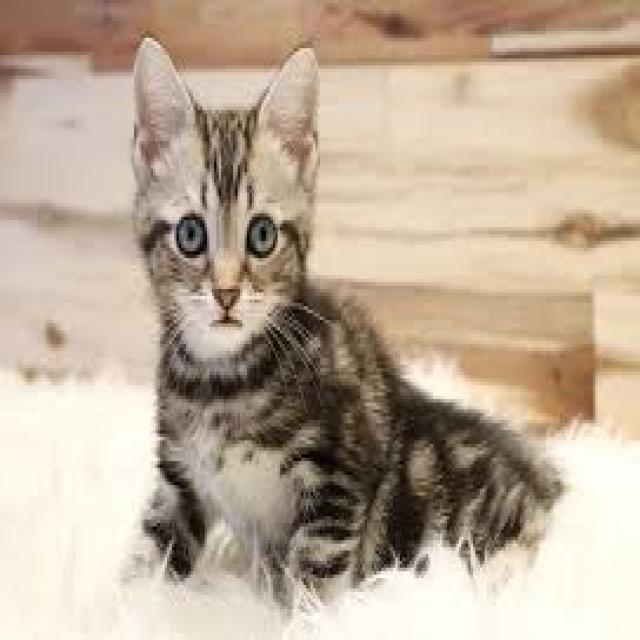cat-face: (90, 32, 387, 440)
